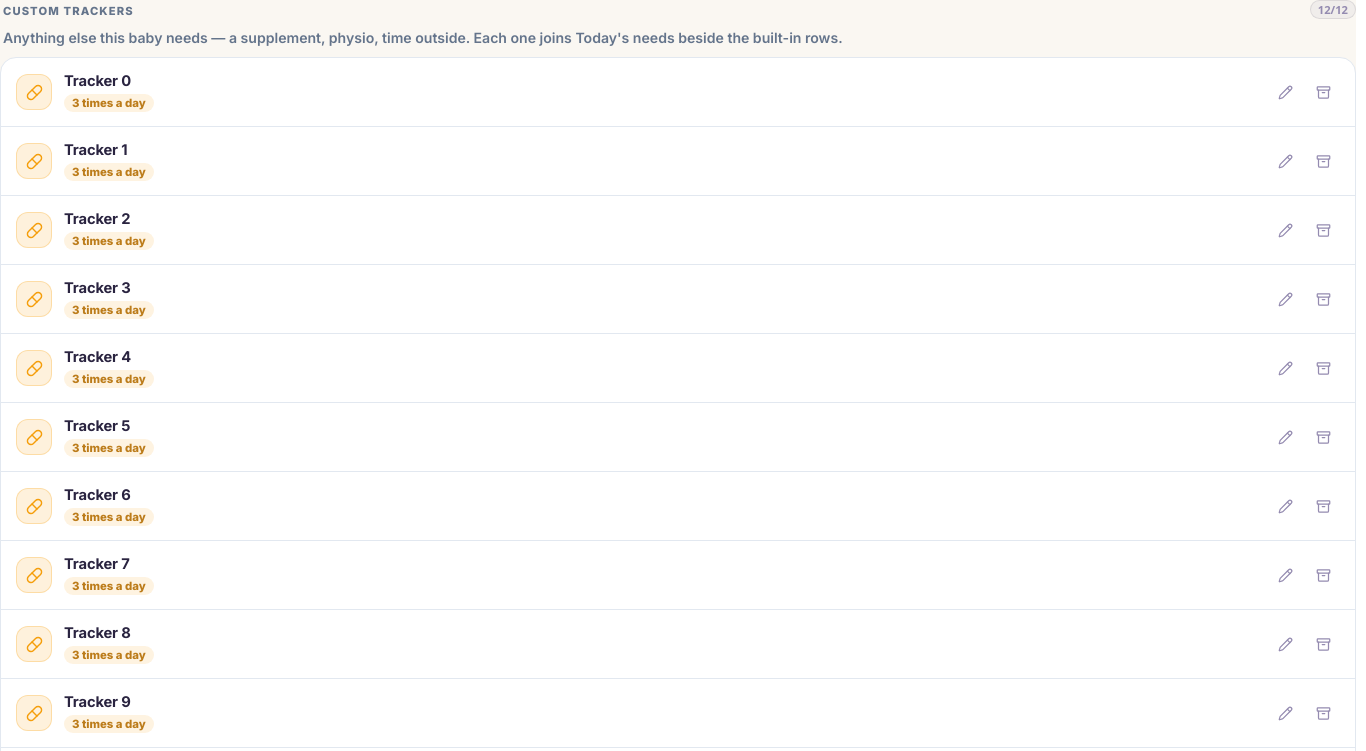
Test case: managing custom trackers in Settings › stops at the cap, and counts only unarchived trackers toward it
Click the button named "Archive Tracker 0" at {"x": 1323, "y": 92}, box top-left (1306, 75), bottom-right (1340, 109)
(page scrolled)
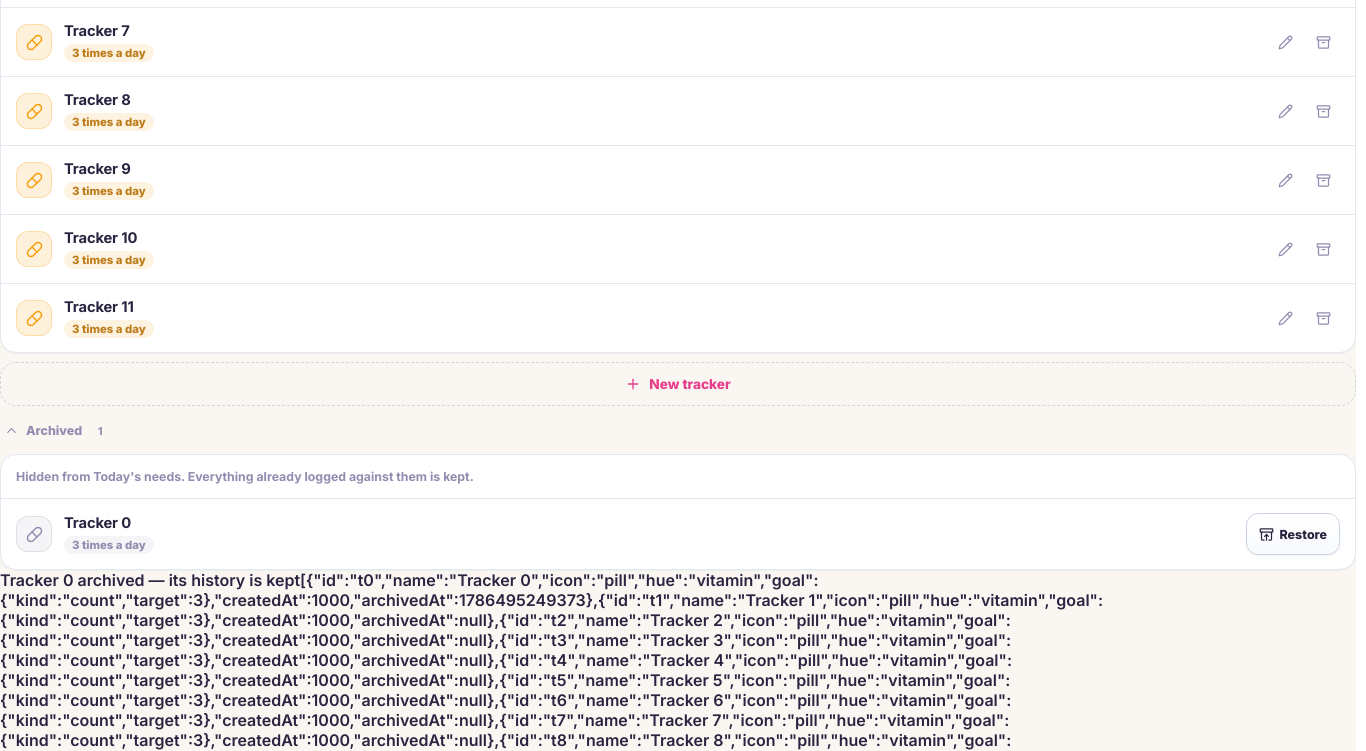
Now the button with aria-label "Add custom tracker" is enabled, box top-left (0, 362), bottom-right (1356, 406)
